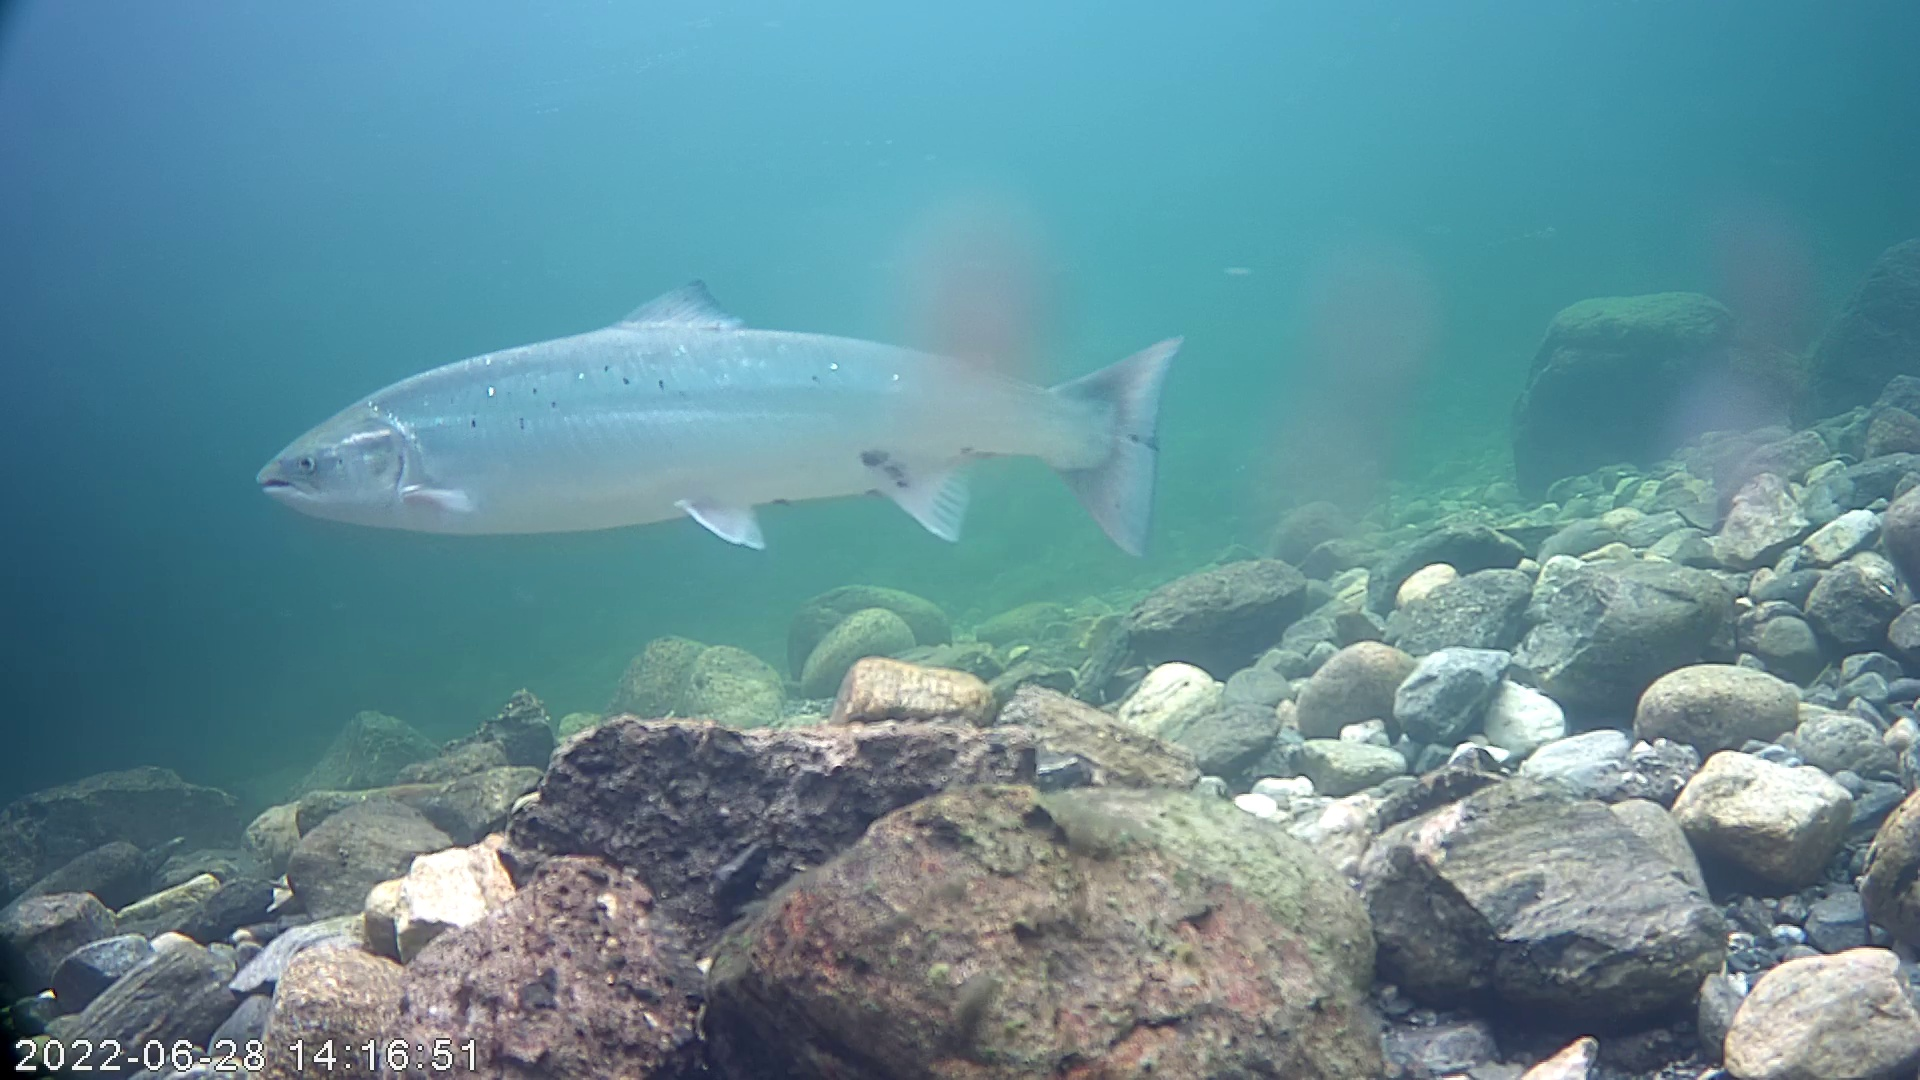salmon: (236, 193, 1191, 615)
